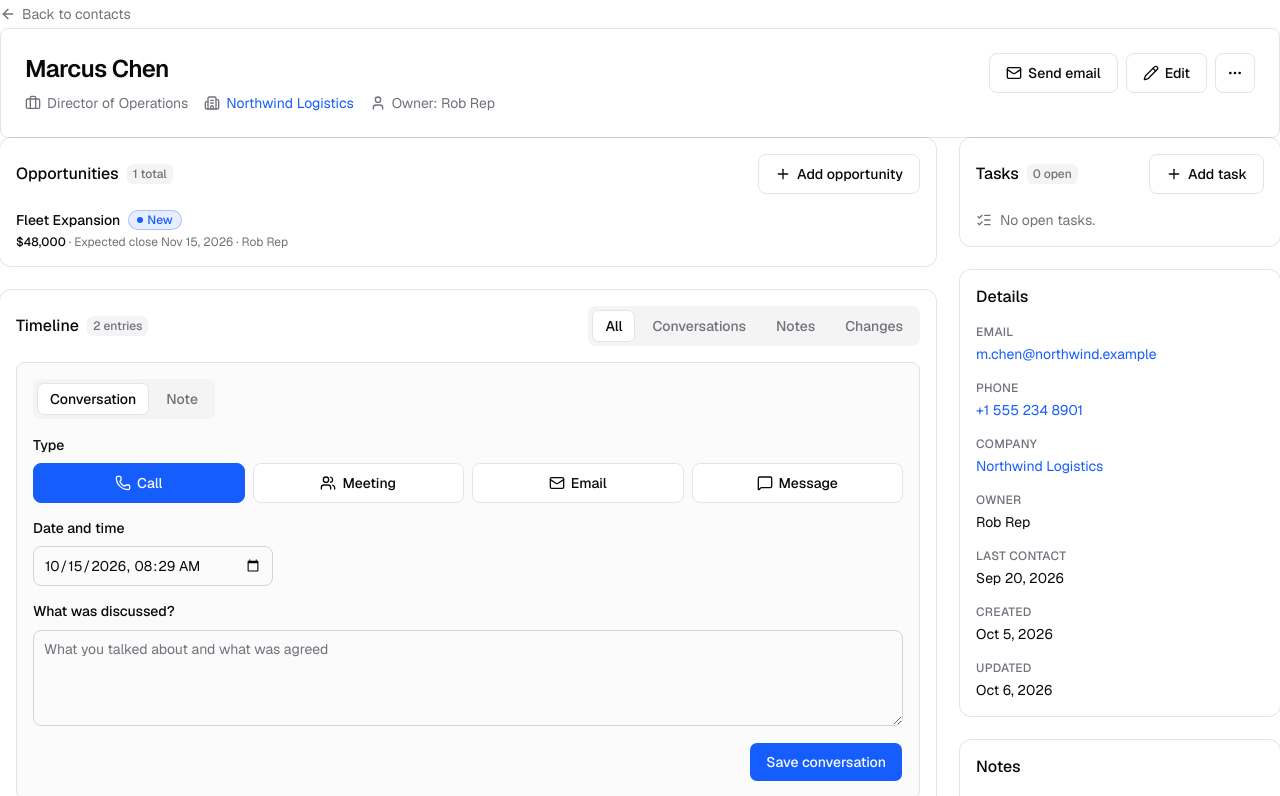
Test: ContactDetailPage › offers Send email to every role that may write, and opens the composer for the contact
Check: the heading "Marcus Chen" is shown, box [25, 53, 169, 85]
Check: the list named "Opportunities" is shown, box [16, 210, 288, 250]
Click the button "Send email" at (1053, 73), box [989, 53, 1118, 93]
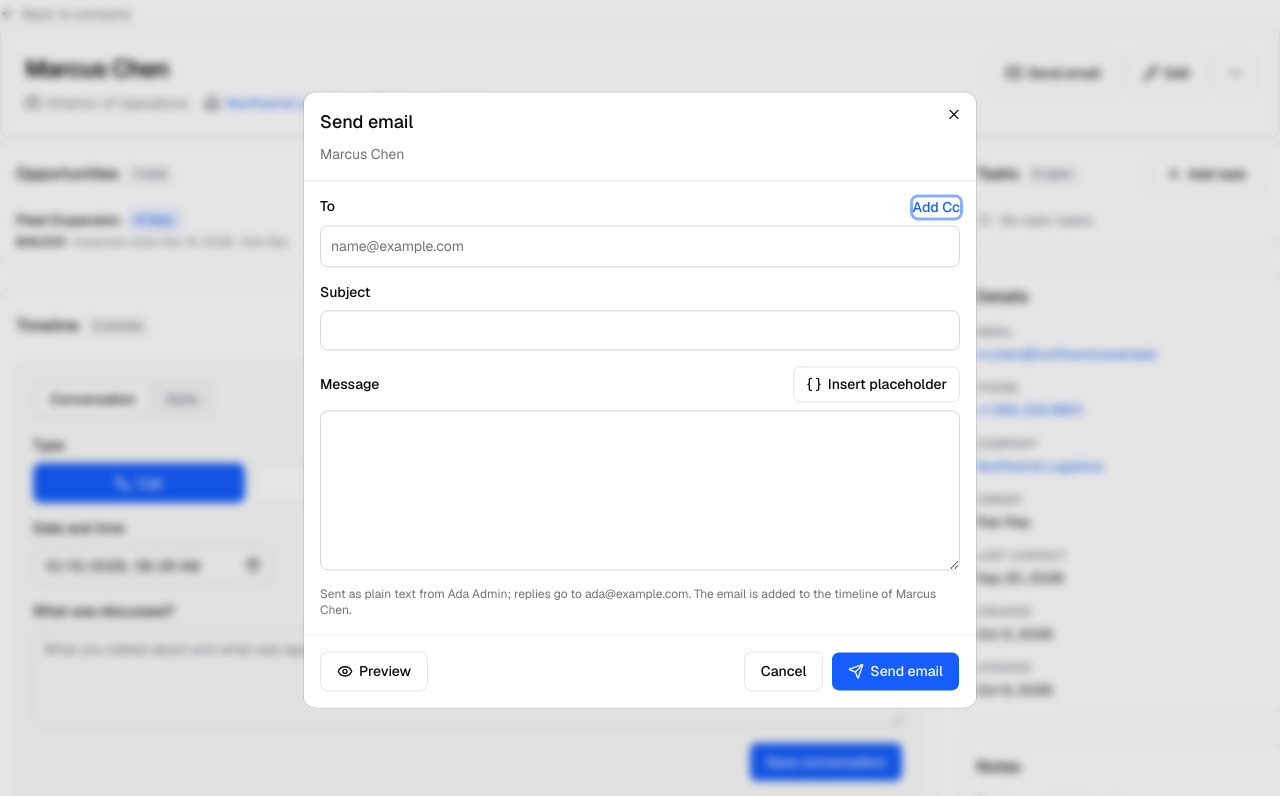
Check: the dialog "Send email" shows "Marcus Chen", box [320, 145, 404, 163]
Check: the field labelled "To" is empty, box [325, 230, 955, 262]
